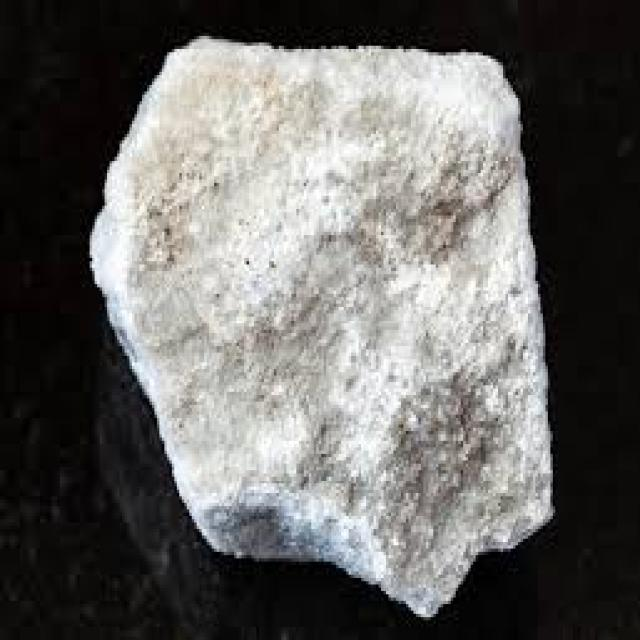Metamorphic: (97, 32, 565, 624)
